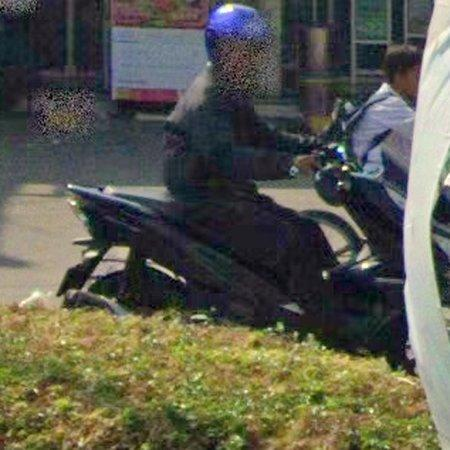motorcycles: (58, 184, 282, 325), (299, 113, 416, 374)
